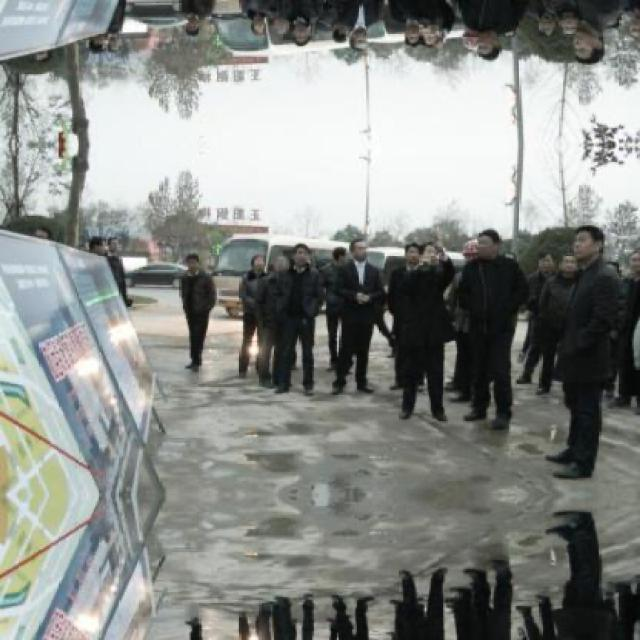sin casco: (568, 211, 612, 298), (458, 219, 507, 292), (275, 236, 314, 280), (403, 238, 441, 270), (346, 234, 379, 257)
